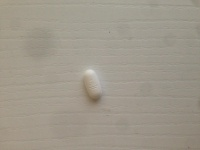Centik Buskopan: (83, 67, 104, 102)
